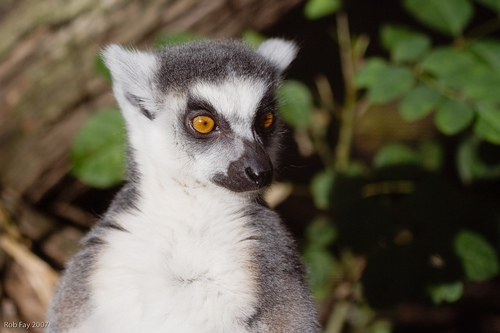cat: (23, 25, 353, 332)
